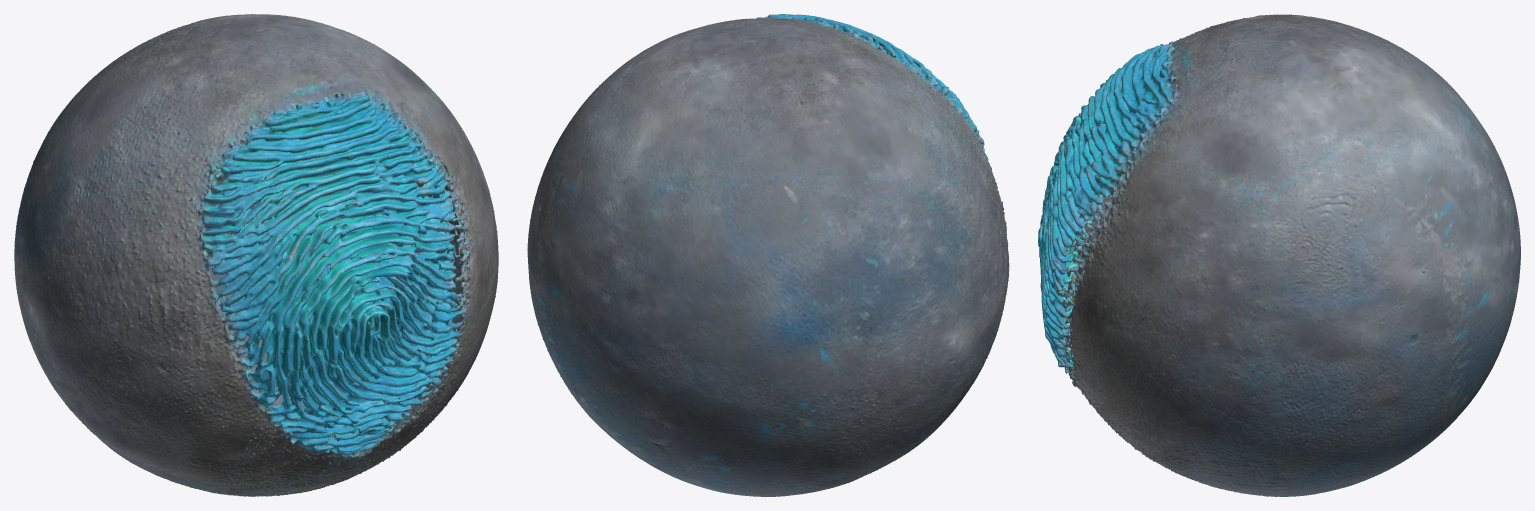
Rendered from Lunar_Identity_0922054020_texture.compressed.glb.
3 views of the same model, side by side, from view 1: azimuth 30°, elevation 25°; view 2: azimuth 150°, elevation 25°; view 3: azimuth 270°, elevation 25° (orthographic).
Visible parts, largest first — view 1: Mesh_0; view 2: Mesh_0; view 3: Mesh_0.
Boxes of the visible parts, x1,y1,x2,y2 form: Mesh_0: (14, 14, 498, 496); Mesh_0: (527, 14, 1009, 496); Mesh_0: (1038, 14, 1520, 496).
Bounding box in the file's own units: 9.97 × 10 × 10.01.
Materials: 1 (1 with a texture image).
